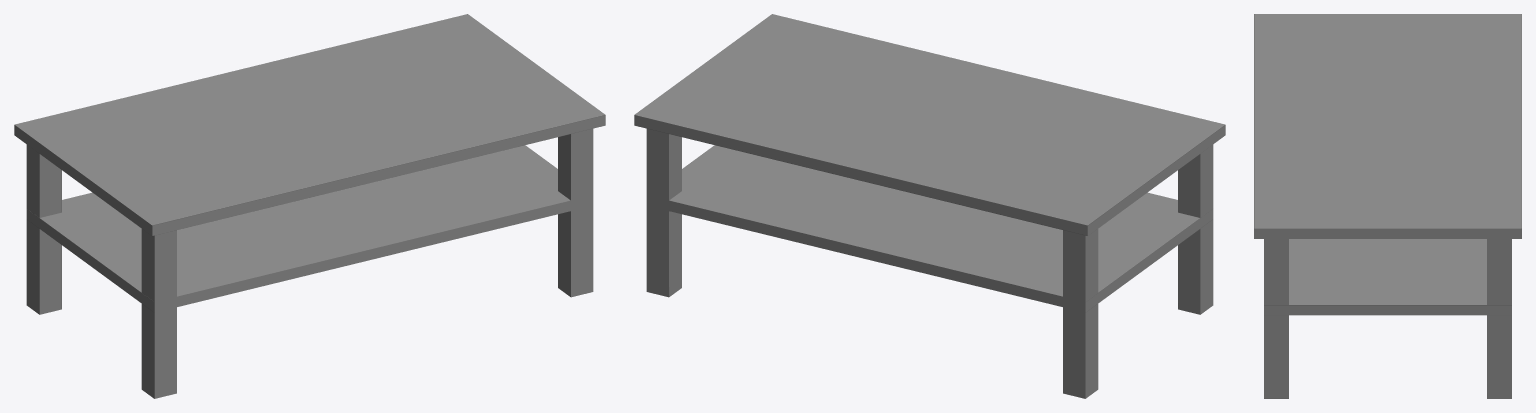
Rendered from table.fbx.
3 renders of one model, left to right at view 1: azimuth 30°, elevation 25°; view 2: azimuth 150°, elevation 25°; view 3: azimuth 270°, elevation 25°, orthographic. The views are drawn at different scales.
Visible parts, largest first — view 1: Cube; view 2: Cube; view 3: Cube.
Part boxes in pixels (bbox=[...]): Cube: bbox=[14, 14, 605, 398]; Cube: bbox=[634, 14, 1225, 398]; Cube: bbox=[1254, 14, 1521, 398].
Size of the model in its own units: 965 by 364 by 508.
